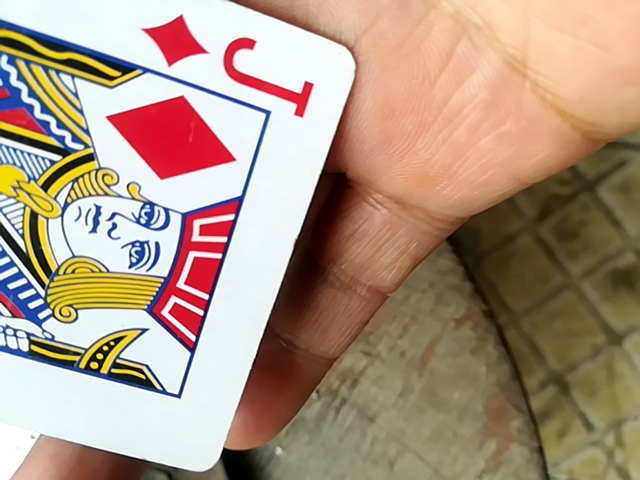fk j: (3, 2, 353, 480)
